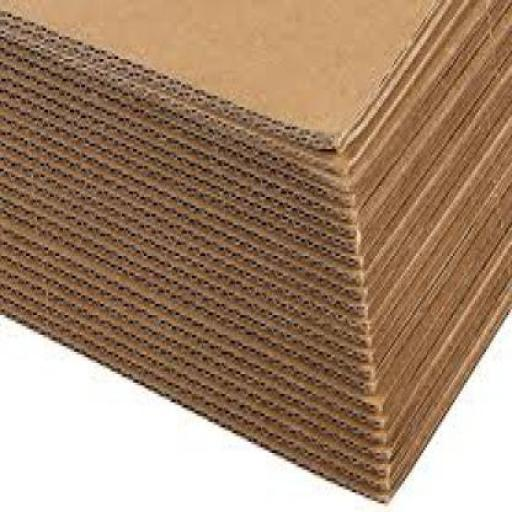cardboard: (0, 0, 511, 502), (0, 0, 458, 133)
